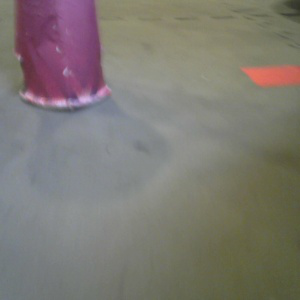right: (12, 1, 115, 116)
